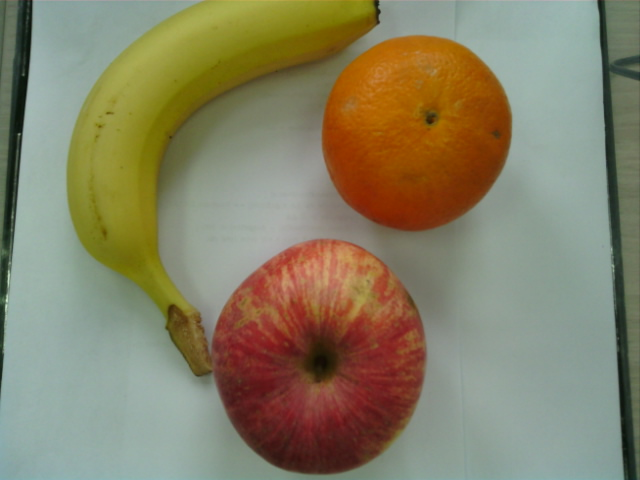normal_apple: (216, 233, 428, 480)
normal_banana: (64, 1, 378, 295)
normal_orange: (324, 38, 513, 230)
